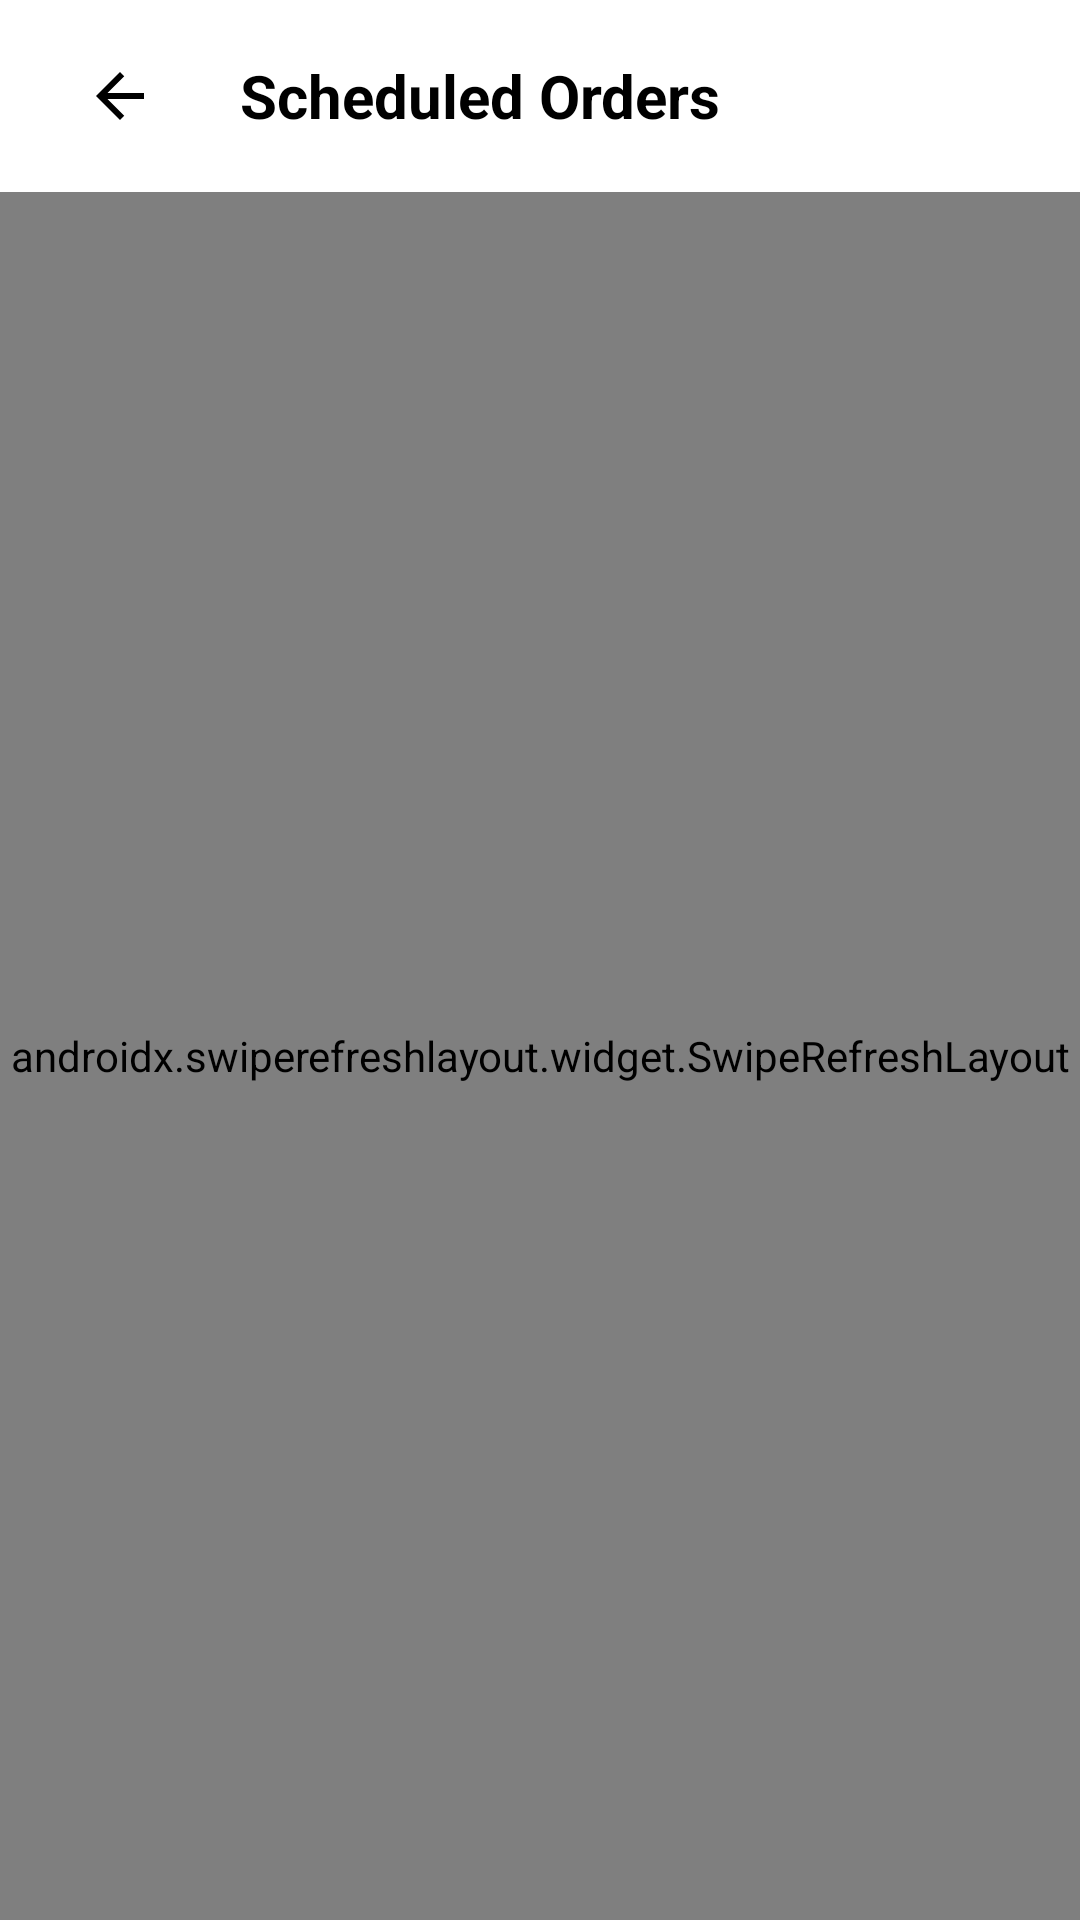

Icon click points for this 1080×1920 phone screenshot, format [x,y]:
Back: [120,96]
